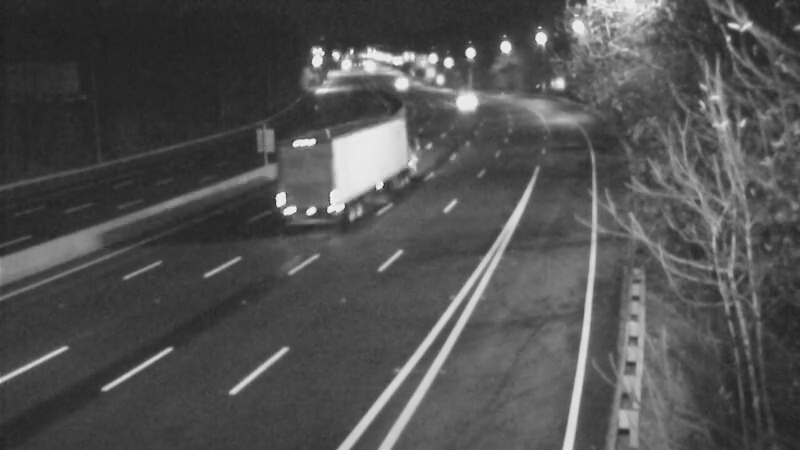vehicle: (292, 135, 372, 215), (368, 58, 418, 108), (439, 75, 489, 125)
